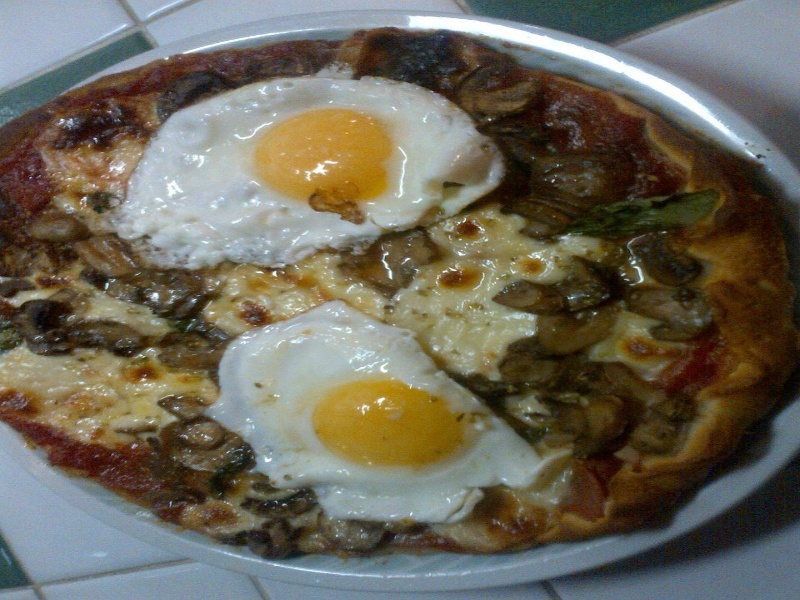oeuf: (224, 96, 422, 230), (295, 358, 481, 485)
